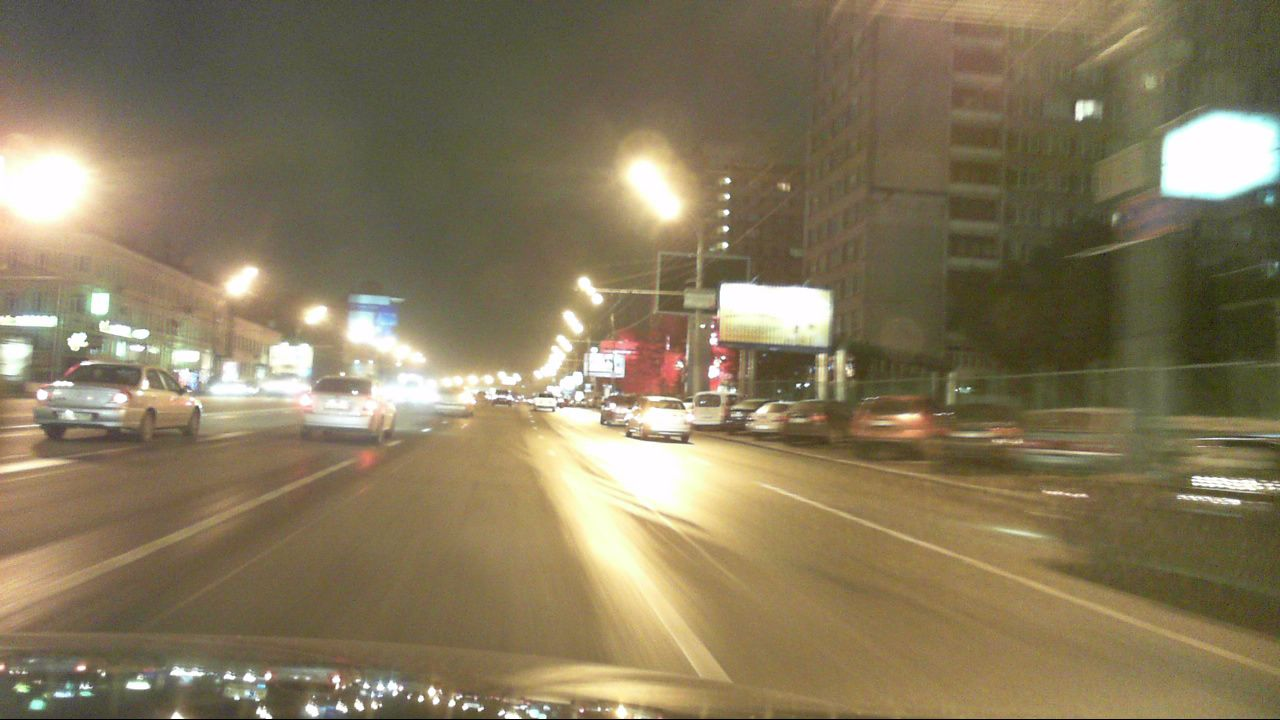No Parking: (1118, 189, 1178, 244)
